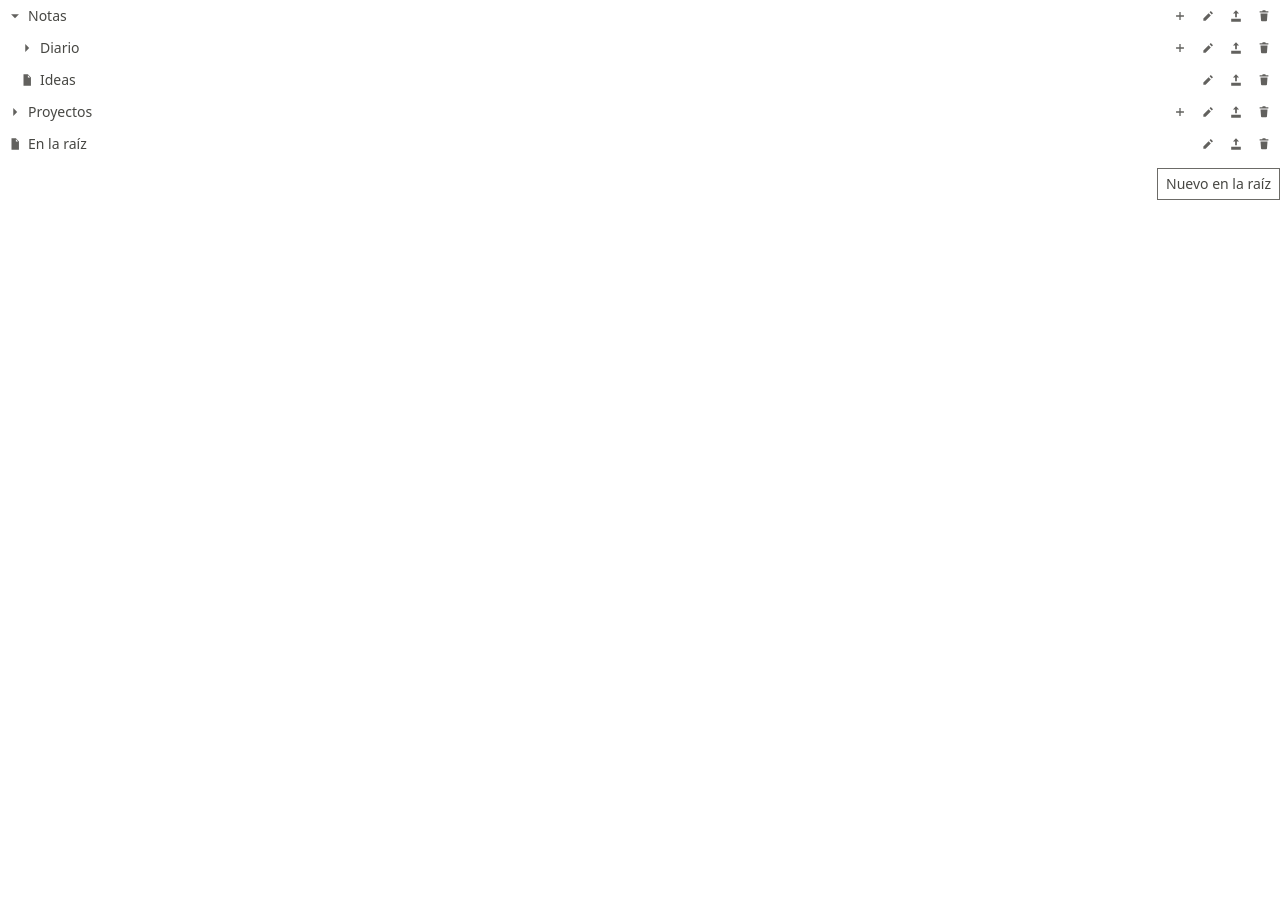
it: MoveNodeDialog — destinos ofrecidos (AC-30) › llega con el destino actual ya elegido
Step 1. Click the button named "Mover «Diario»" → click(1236, 48), box [1224,36,1248,60]
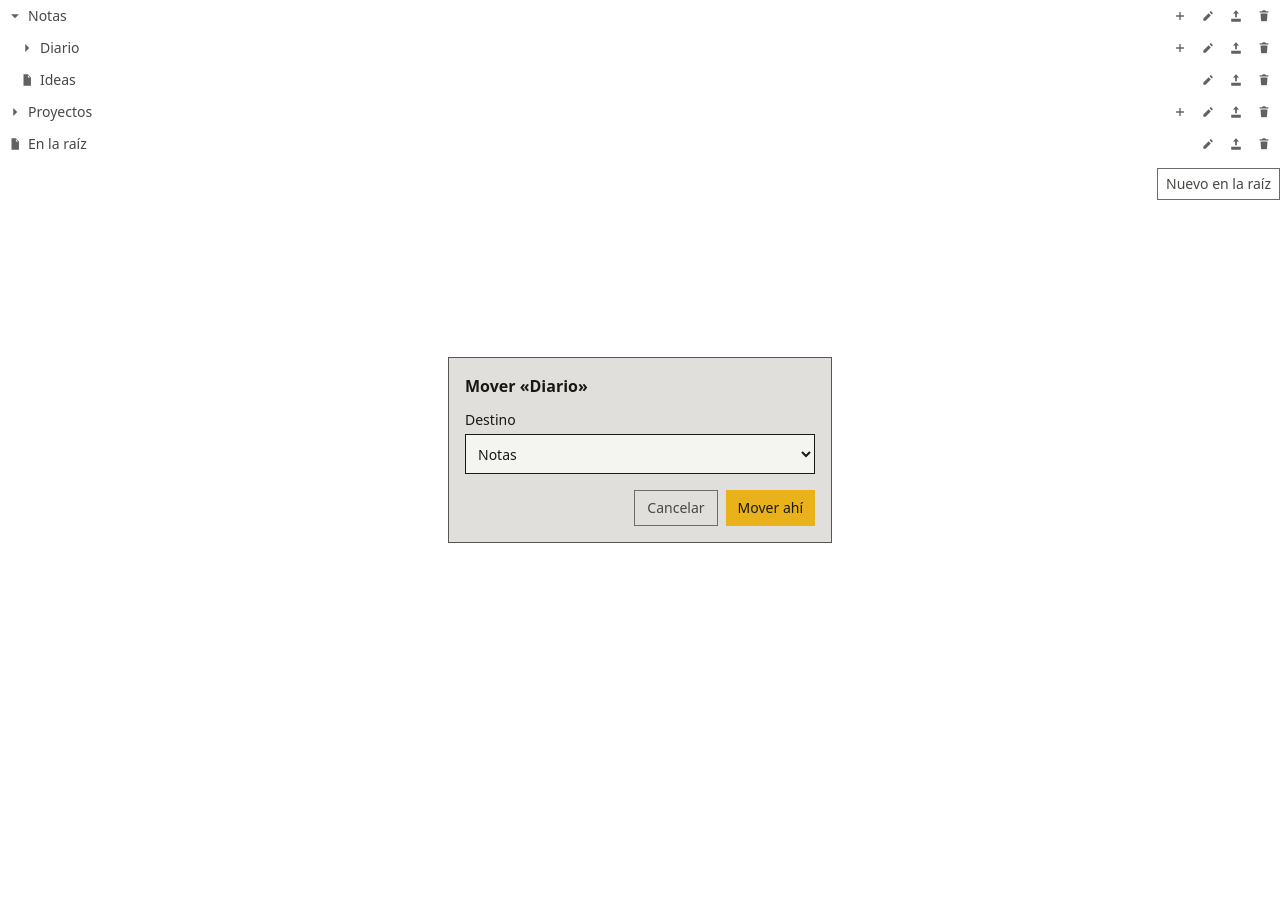
Expected: the dropdown labelled "Destino" shows "Notas", [465,434,815,474]
